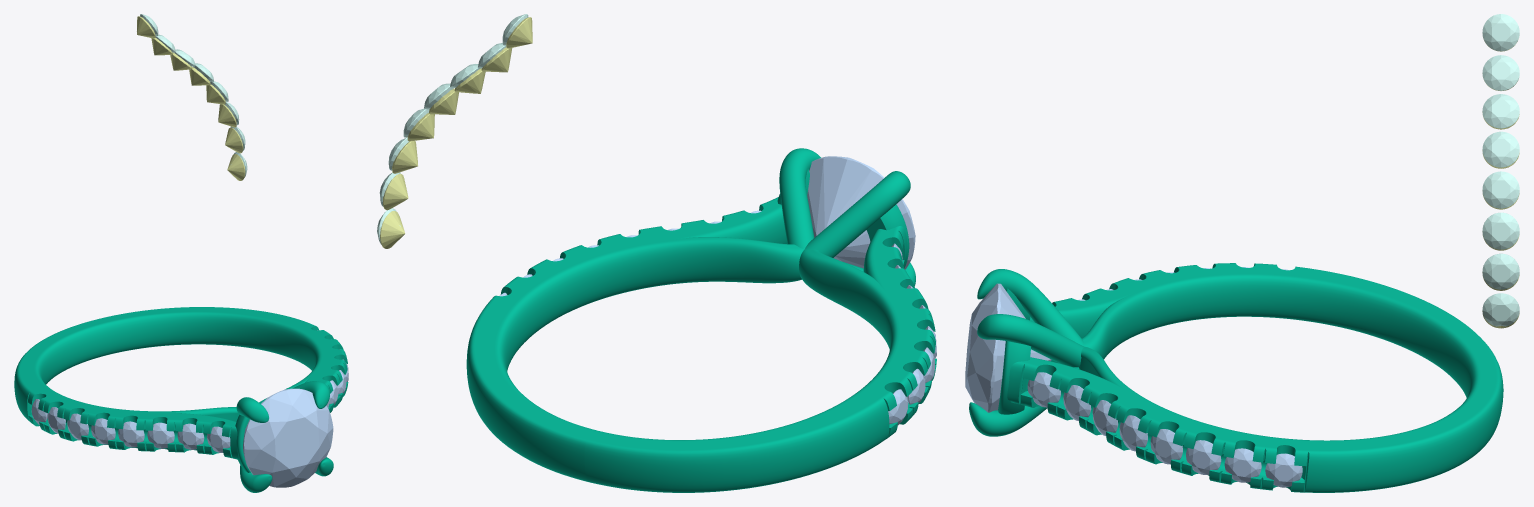
The picture shows the model from 3 angles, left to right: view 1: azimuth 30°, elevation 25°; view 2: azimuth 150°, elevation 25°; view 3: azimuth 270°, elevation 25°; orthographic projection. The views are drawn at different scales.
Visible parts, largest first — view 1: JTC 10932(base).3dm, Diamond_Round, Gem On Curve Advanced Gem (×6); view 2: JTC 10932(base).3dm, Diamond_Round, Gem On Curve Advanced Gem (×2); view 3: JTC 10932(base).3dm, Gem On Curve Advanced Gem (×16), Diamond_Round.
Part boxes in pixels (x1=…): JTC 10932(base).3dm: x1=14, y1=307, x2=348, y2=492; Diamond_Round: x1=243, y1=388, x2=333, y2=487; Gem On Curve Advanced Gem (×6): x1=67, y1=413, x2=230, y2=452; JTC 10932(base).3dm: x1=466, y1=148, x2=936, y2=492; Diamond_Round: x1=807, y1=156, x2=915, y2=269; Gem On Curve Advanced Gem (×2): x1=380, y1=173, x2=408, y2=248; JTC 10932(base).3dm: x1=969, y1=263, x2=1503, y2=492; Gem On Curve Advanced Gem (×16): x1=1027, y1=14, x2=1519, y2=487; Diamond_Round: x1=965, y1=283, x2=1051, y2=412.
Bounding box in the file's own units: 2.51 × 2.68 × 3.1.
